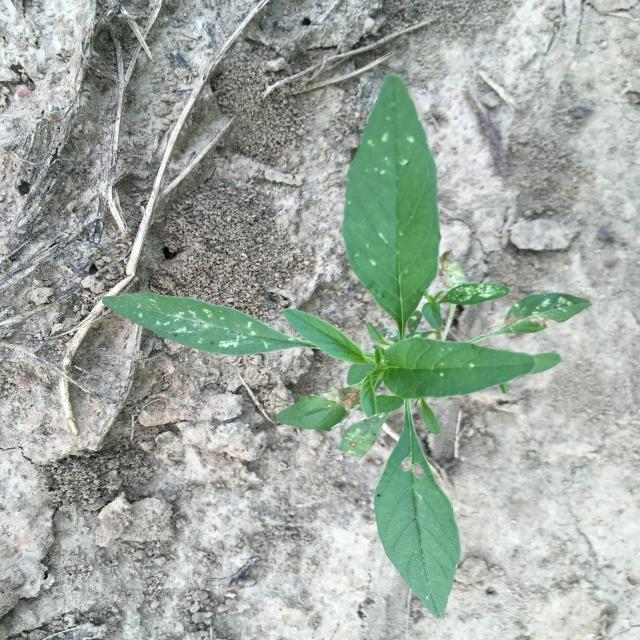Waterhemp: (102, 74, 592, 619)
